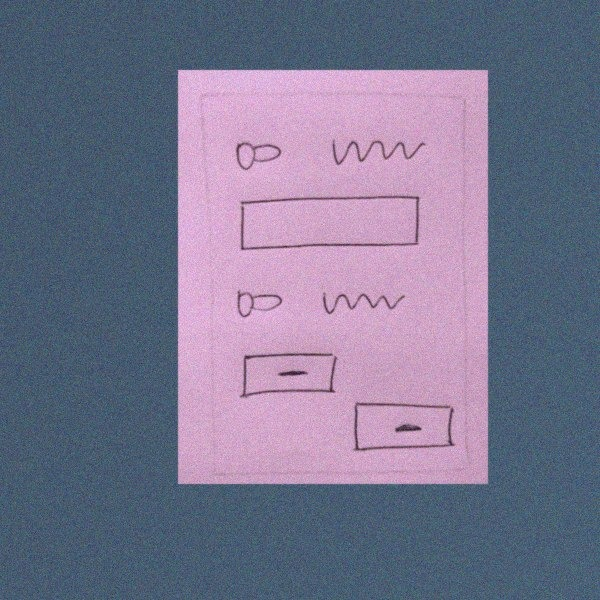button: (351, 399, 460, 455), (236, 349, 342, 401)
switch: (228, 135, 288, 178), (233, 287, 285, 322)
text: (326, 137, 432, 169), (313, 285, 407, 319)
text_input: (233, 192, 424, 255)
